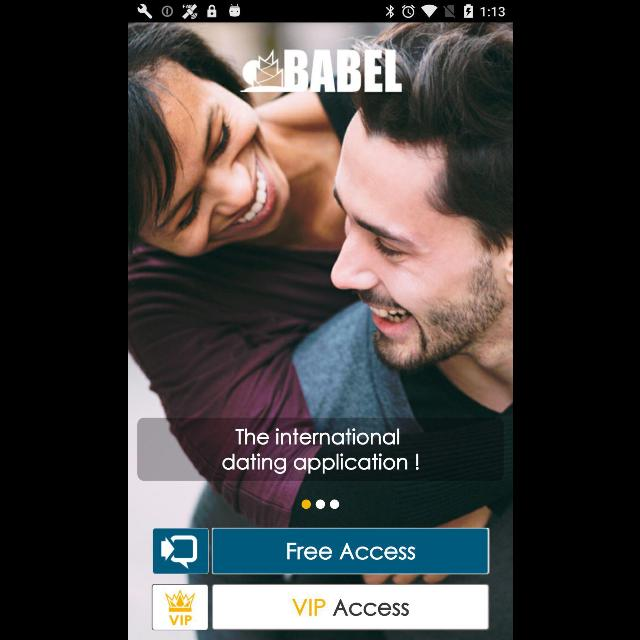backgroundimage: (128, 22, 512, 640)
icon: (152, 528, 208, 574)
image: (237, 48, 401, 92), (151, 585, 207, 631)
pageindicator: (301, 499, 339, 509)
text: (222, 428, 418, 474)
textbutton: (211, 528, 489, 574), (212, 584, 488, 630)
uppertaskbar: (128, 1, 512, 23)
